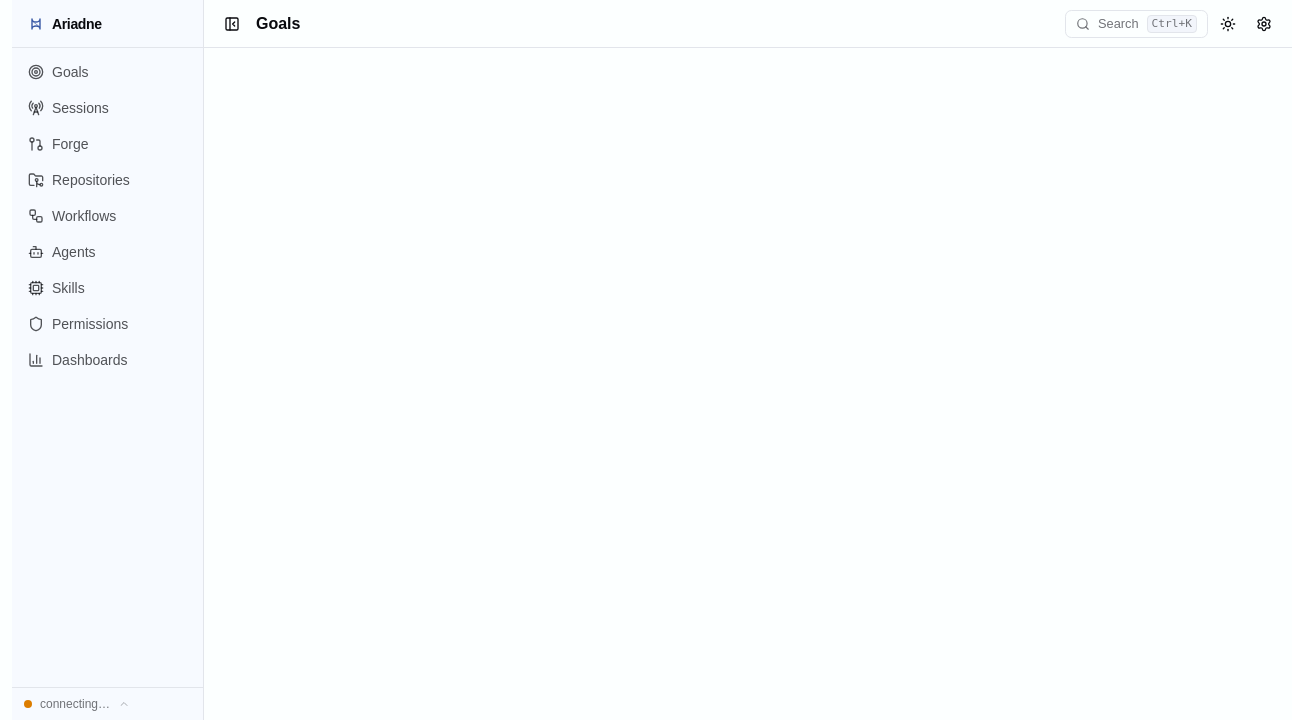
folds down to an icon rail from the header, and back
Click the button named "Collapse sidebar". click: (232, 24)
box: x1=216 y1=8 x2=248 y2=40
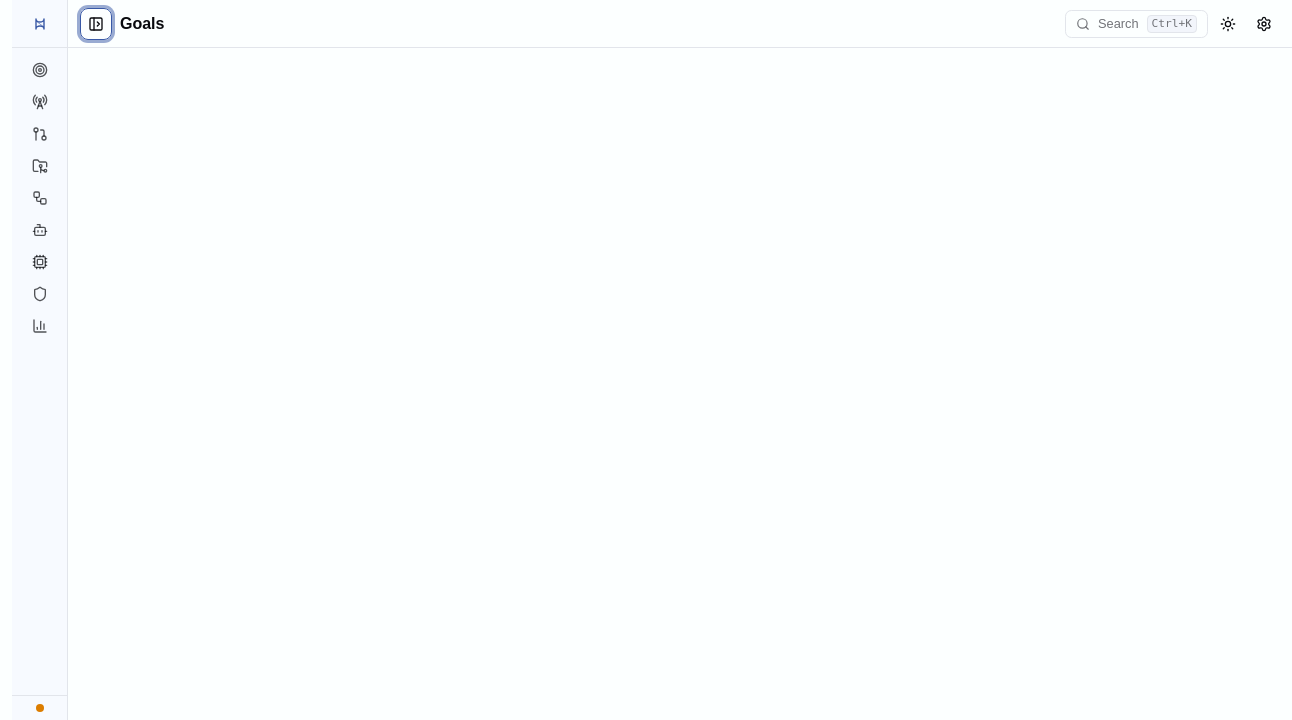
Expected: the link named "Repositories" is empty, x1=32 y1=158 x2=48 y2=174
Expected: the text "Ariadne" is gone
Click the button named "Expand sidebar". click: (96, 24)
box: x1=80 y1=8 x2=112 y2=40
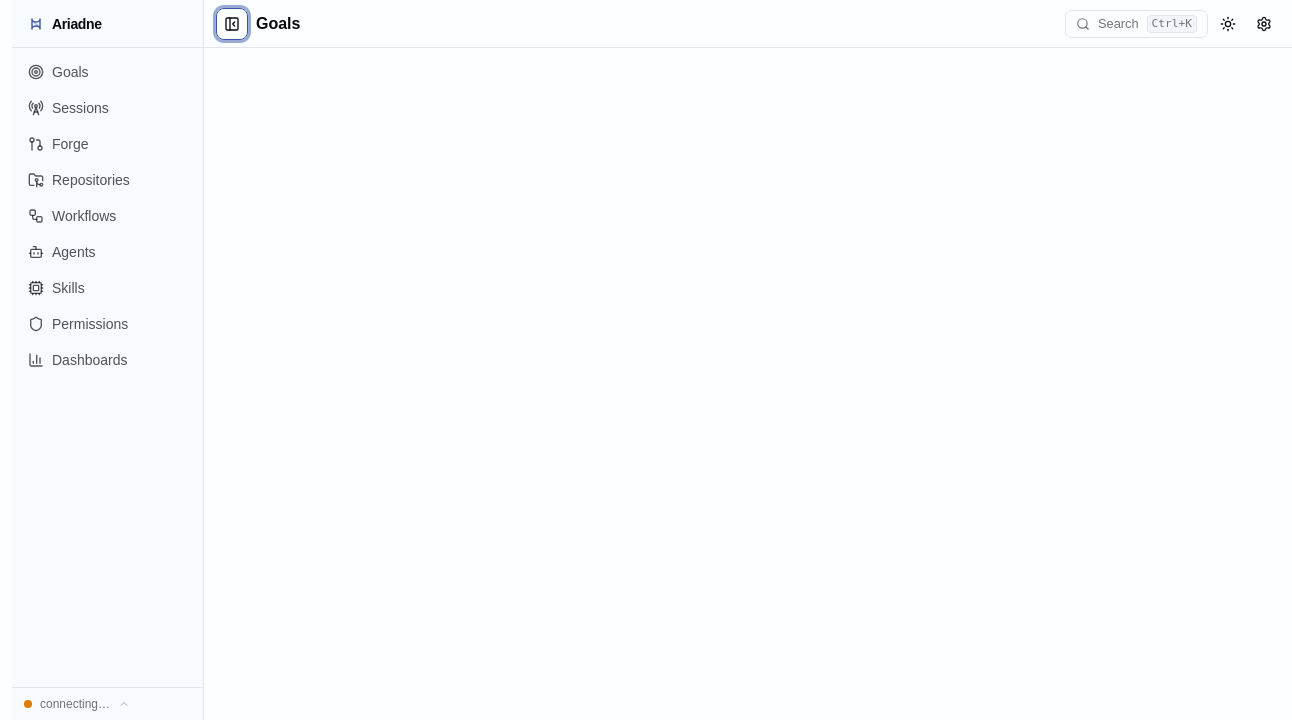
Expected: the link "Repositories" is shown, x1=28 y1=172 x2=130 y2=188
